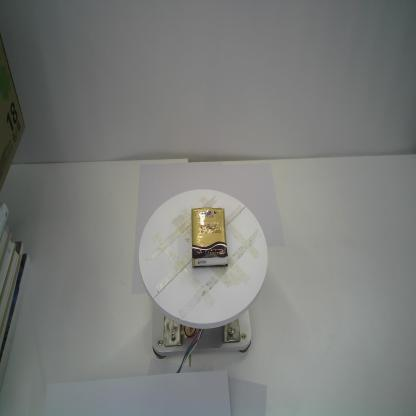Tissue: (191, 206, 228, 268)
